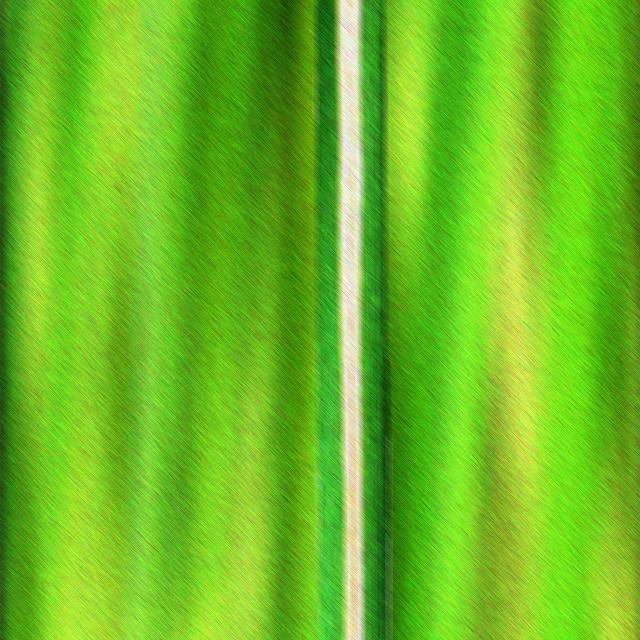BLB: (336, 0, 364, 640)
